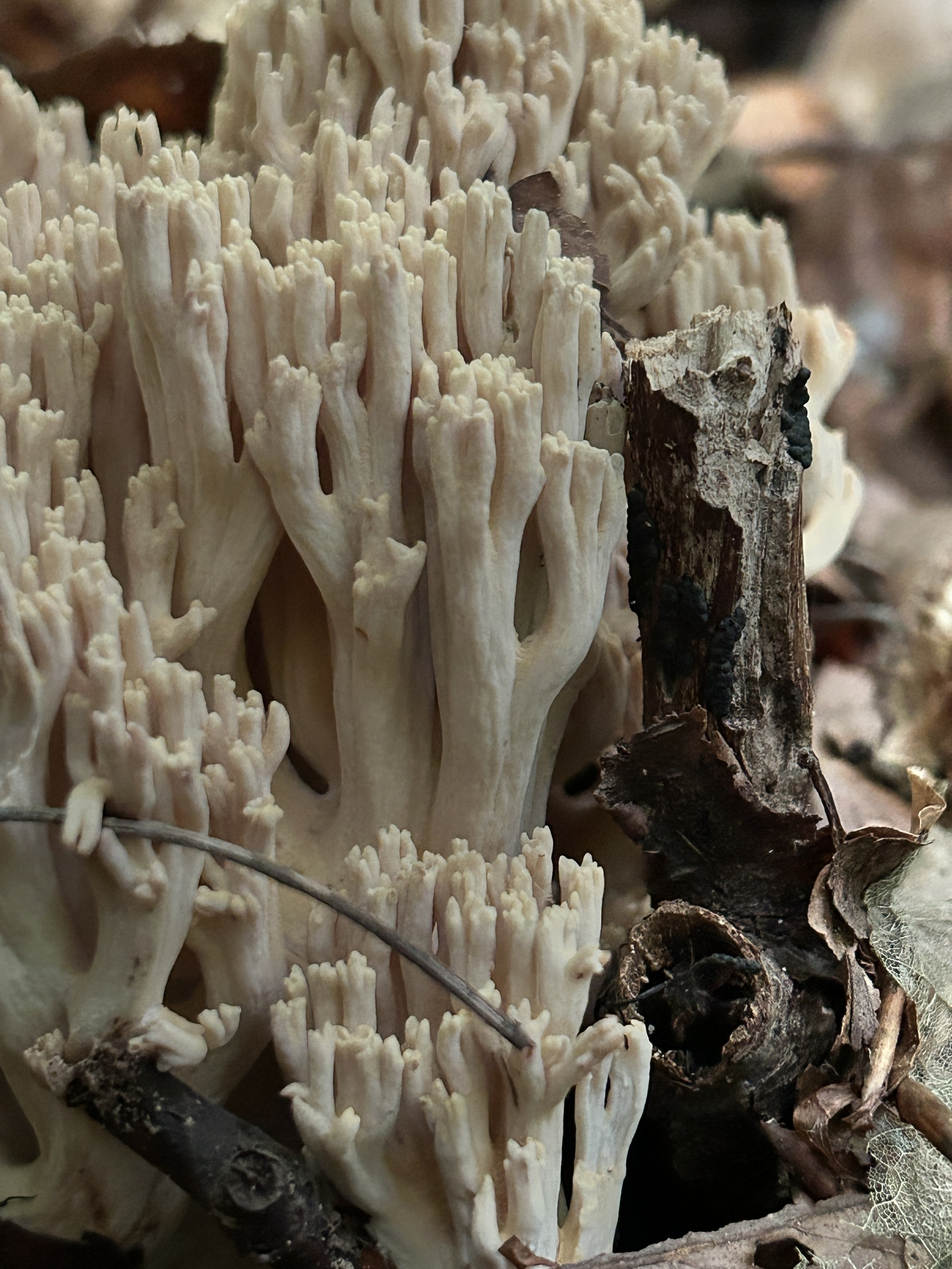Coral: (0, 0, 858, 1268)
